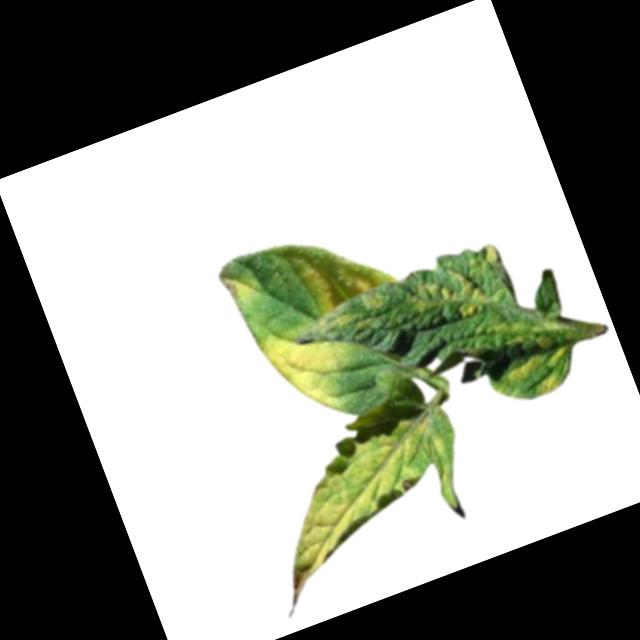Leaf_Mold: (252, 390, 473, 578), (255, 308, 371, 432), (286, 209, 402, 314), (404, 261, 488, 333), (503, 341, 580, 405), (315, 303, 373, 345), (219, 262, 262, 303), (361, 287, 388, 315), (479, 238, 503, 269)
